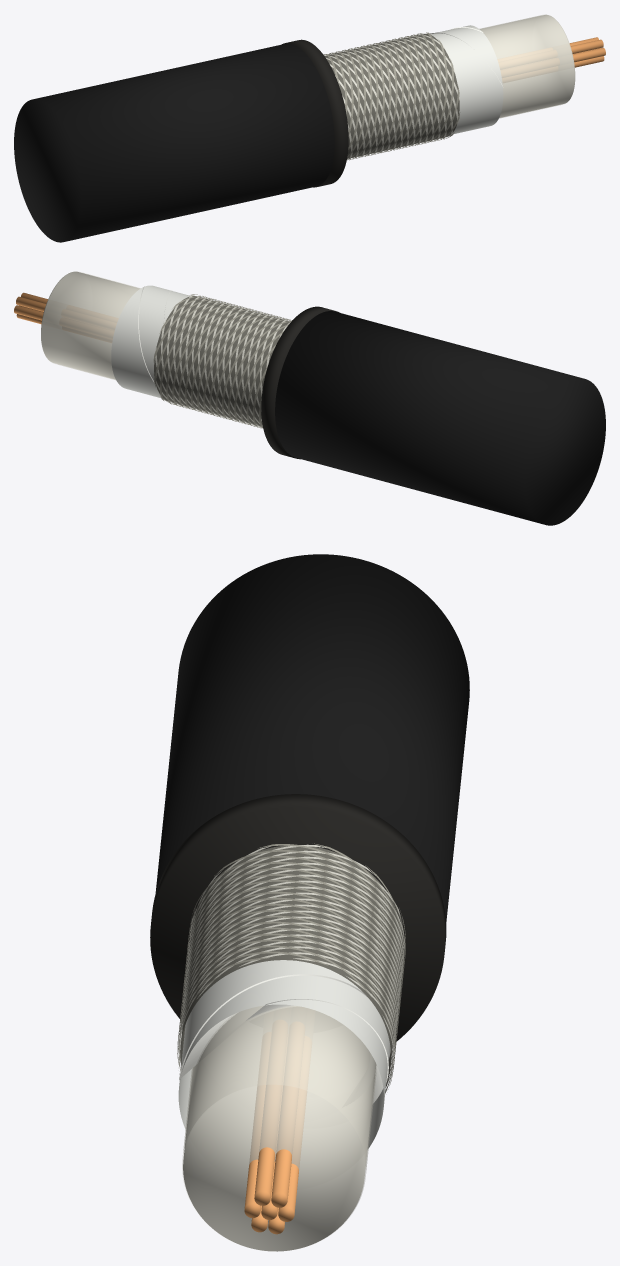
The model's file is rf-lmr240uf.glb.
3 renders of one model, top to bottom at view 1: azimuth 30°, elevation 25°; view 2: azimuth 150°, elevation 25°; view 3: azimuth 270°, elevation 25°, orthographic. The views are drawn at different scales.
Parts seen in each view (by area): view 1: matte black pvc jacket body, braid dark diamond recess, gas injected foam dielectric, smooth dielectric skin, duobond foil sleeve, jacket cut lip, braid left hand woven carrier 01, braid left hand woven carrier 02, braid left hand woven carrier 12, braid left hand woven carrier 11, braid left hand woven carrier 03, braid left hand woven carrier 10 (+10 smaller); view 2: matte black pvc jacket body, braid dark diamond recess, gas injected foam dielectric, smooth dielectric skin, duobond foil sleeve, jacket cut lip, braid left hand woven carrier 09, braid left hand woven carrier 08, braid left hand woven carrier 10, braid left hand woven carrier 07, braid left hand woven carrier 11, braid left hand woven carrier 06 (+8 smaller); view 3: matte black pvc jacket body, gas injected foam dielectric, jacket cut lip, braid dark diamond recess, smooth dielectric skin, duobond foil sleeve, 7 strand center conductor 04, 7 strand center conductor 03, subtle foil wrap lap, 7 strand center conductor 05, braid left hand woven carrier 10, braid left hand woven carrier 09 (+10 smaller).
Part boxes in pixels (bbox=[...]): matte black pvc jacket body: bbox=[14, 43, 334, 242]; braid dark diamond recess: bbox=[324, 34, 459, 158]; gas injected foam dielectric: bbox=[480, 14, 575, 117]; smooth dielectric skin: bbox=[479, 14, 574, 118]; duobond foil sleeve: bbox=[431, 25, 503, 133]; jacket cut lip: bbox=[282, 39, 348, 187]; braid left hand woven carrier 01: bbox=[347, 32, 441, 157]; braid left hand woven carrier 02: bbox=[347, 39, 447, 159]; braid left hand woven carrier 12: bbox=[341, 33, 435, 149]; braid left hand woven carrier 11: bbox=[335, 34, 428, 149]; braid left hand woven carrier 03: bbox=[349, 45, 453, 160]; braid left hand woven carrier 10: bbox=[329, 36, 422, 151]; matte black pvc jacket body: bbox=[275, 311, 605, 525]; braid dark diamond recess: bbox=[154, 296, 289, 426]; gas injected foam dielectric: bbox=[41, 271, 139, 379]; smooth dielectric skin: bbox=[41, 271, 140, 380]; duobond foil sleeve: bbox=[111, 285, 189, 397]; jacket cut lip: bbox=[261, 306, 339, 459]; braid left hand woven carrier 09: bbox=[160, 302, 288, 423]; braid left hand woven carrier 08: bbox=[166, 304, 283, 424]; braid left hand woven carrier 10: bbox=[154, 301, 291, 421]; braid left hand woven carrier 07: bbox=[172, 306, 276, 426]; braid left hand woven carrier 11: bbox=[153, 299, 292, 419]; braid left hand woven carrier 06: bbox=[178, 307, 267, 428]; matte black pvc jacket body: bbox=[155, 554, 469, 923]; gas injected foam dielectric: bbox=[183, 1005, 376, 1251]; jacket cut lip: bbox=[150, 794, 446, 1041]; braid dark diamond recess: bbox=[180, 845, 402, 1086]; smooth dielectric skin: bbox=[182, 1006, 376, 1239]; duobond foil sleeve: bbox=[178, 960, 389, 1148]; 7 strand center conductor 04: bbox=[254, 1084, 281, 1205]; 7 strand center conductor 03: bbox=[271, 1085, 298, 1207]; subtle foil wrap lap: bbox=[179, 974, 390, 1104]; 7 strand center conductor 05: bbox=[244, 1085, 265, 1217]; braid left hand woven carrier 10: bbox=[181, 862, 402, 1089]; braid left hand woven carrier 09: bbox=[181, 856, 402, 1092].
Bounding box in the file's own units: 6.53 × 1.54 × 1.67.
